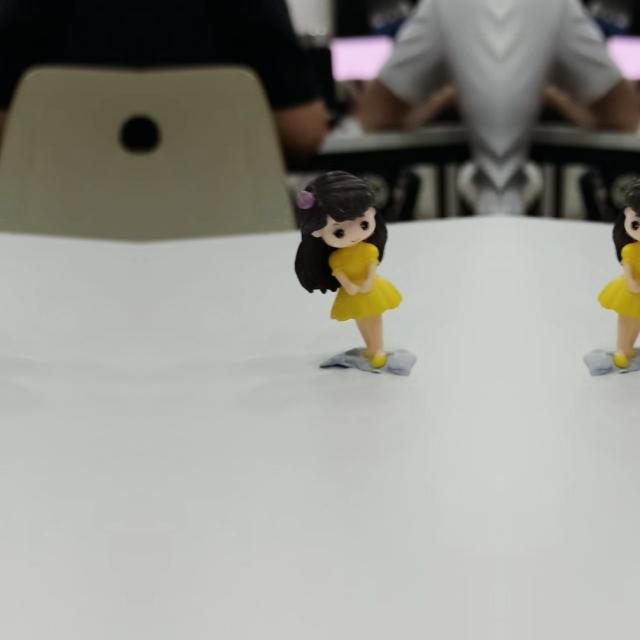woman head: (294, 169, 386, 251), (614, 169, 640, 251)
